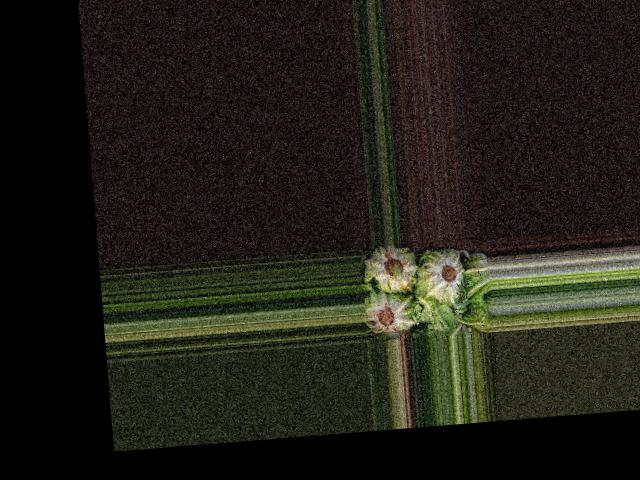lettuce: (362, 288, 416, 336)
